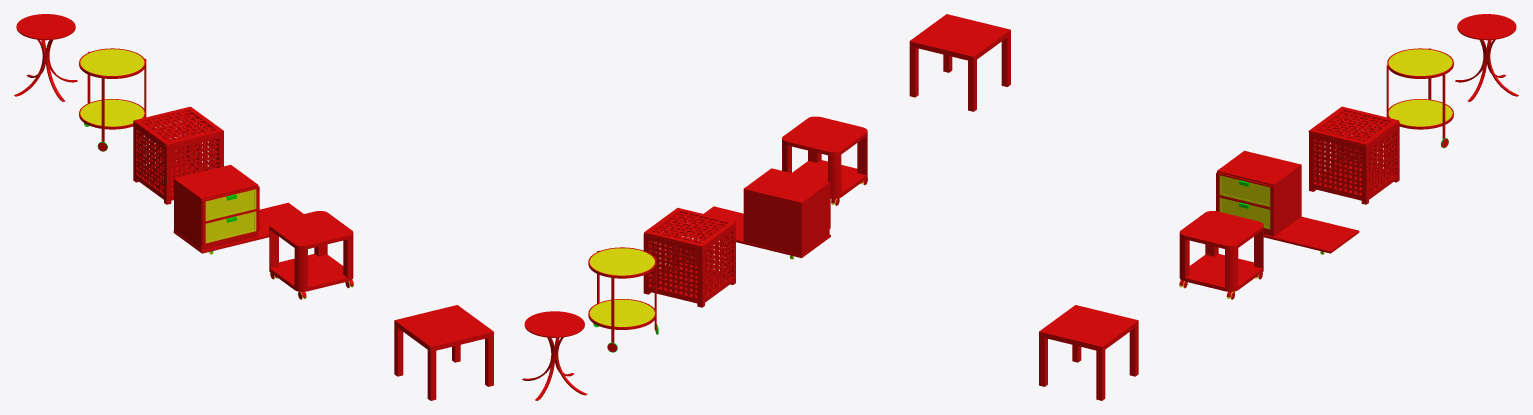
File: thorkea_side_tables_grp.fbx
The picture shows the model from 3 angles, left to right: view 1: azimuth 30°, elevation 25°; view 2: azimuth 150°, elevation 25°; view 3: azimuth 330°, elevation 25°; orthographic projection.
Visible parts, largest first — view 1: thorkea_side_table_tingby, thorkea_side_table_hopen, thorkea_side_table_lack, thorkea_side_table_hol, thorkea_side_table_strind, thorkea_side_table_lid_hol, thorkea_side_table_fornbro, thorkea_side_table_drawer_1_hopen, thorkea_side_table_drawer_2_hopen; view 2: thorkea_side_table_hopen, thorkea_side_table_hol, thorkea_side_table_tingby, thorkea_side_table_lack, thorkea_side_table_strind, thorkea_side_table_lid_hol, thorkea_side_table_fornbro; view 3: thorkea_side_table_hol, thorkea_side_table_tingby, thorkea_side_table_hopen, thorkea_side_table_lack, thorkea_side_table_strind, thorkea_side_table_lid_hol, thorkea_side_table_fornbro, thorkea_side_table_drawer_1_hopen, thorkea_side_table_drawer_2_hopen.
Boxes of the visible parts, x1,y1,x2,y2 form: thorkea_side_table_tingby: [269, 211, 353, 299]; thorkea_side_table_hopen: [173, 164, 303, 254]; thorkea_side_table_lack: [394, 305, 493, 400]; thorkea_side_table_hol: [133, 112, 223, 204]; thorkea_side_table_strind: [79, 48, 146, 151]; thorkea_side_table_lid_hol: [133, 106, 223, 146]; thorkea_side_table_fornbro: [14, 14, 77, 101]; thorkea_side_table_drawer_1_hopen: [201, 186, 259, 222]; thorkea_side_table_drawer_2_hopen: [201, 209, 259, 245]; thorkea_side_table_hopen: [687, 168, 830, 259]; thorkea_side_table_hol: [643, 214, 735, 307]; thorkea_side_table_tingby: [782, 116, 867, 205]; thorkea_side_table_lack: [909, 14, 1010, 111]; thorkea_side_table_strind: [588, 247, 658, 352]; thorkea_side_table_lid_hol: [644, 208, 735, 248]; thorkea_side_table_fornbro: [522, 311, 587, 400]; thorkea_side_table_hol: [1309, 112, 1399, 204]; thorkea_side_table_tingby: [1179, 211, 1263, 299]; thorkea_side_table_hopen: [1217, 150, 1359, 254]; thorkea_side_table_lack: [1039, 305, 1138, 400]; thorkea_side_table_strind: [1386, 48, 1453, 148]; thorkea_side_table_lid_hol: [1308, 106, 1399, 146]; thorkea_side_table_fornbro: [1455, 14, 1518, 101]; thorkea_side_table_drawer_1_hopen: [1216, 172, 1274, 208]; thorkea_side_table_drawer_2_hopen: [1216, 195, 1274, 231].
Size of the model in its own units: 100 by 62.1 by 655.
